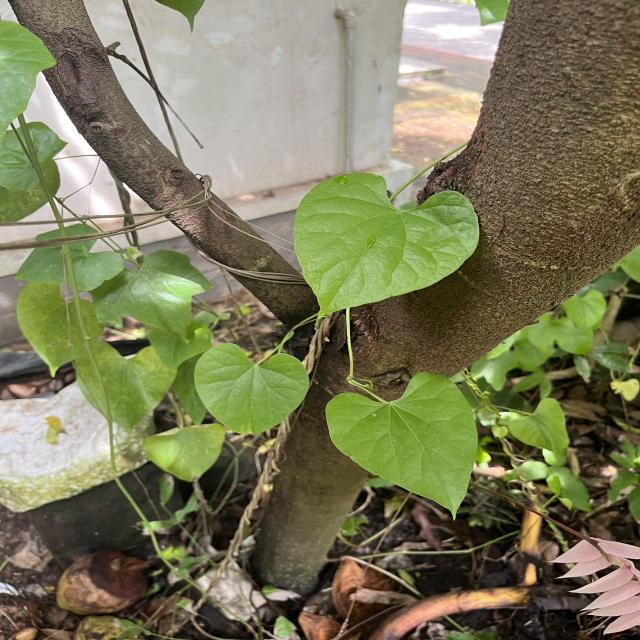Tinospora cordifolia: (288, 169, 484, 322), (321, 368, 482, 481)
